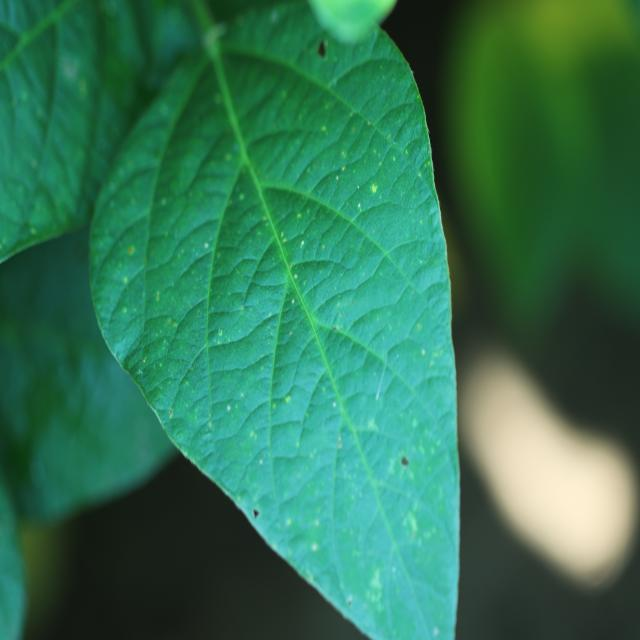Soybean: (0, 0, 465, 640)
downey_mildew: (247, 175, 447, 617), (154, 162, 314, 468), (251, 65, 419, 236), (333, 418, 450, 639), (278, 192, 427, 362), (88, 92, 179, 352), (202, 200, 293, 352), (211, 46, 334, 144), (338, 131, 435, 243), (19, 6, 66, 217), (218, 4, 339, 84), (152, 81, 230, 205), (144, 204, 227, 318), (265, 281, 333, 411), (196, 301, 291, 390), (204, 163, 234, 444), (250, 188, 331, 285), (1, 1, 90, 83), (336, 298, 428, 376), (324, 59, 417, 135), (96, 156, 162, 258), (291, 370, 342, 497), (277, 228, 343, 324), (123, 312, 190, 406), (326, 377, 351, 620), (101, 255, 157, 362), (277, 259, 354, 334), (353, 100, 427, 177), (237, 126, 320, 189), (199, 395, 264, 473), (348, 200, 426, 257), (305, 151, 368, 211), (290, 25, 349, 86), (169, 299, 223, 360), (378, 531, 408, 640), (342, 464, 385, 540), (363, 472, 429, 512), (267, 417, 312, 473), (24, 190, 61, 237), (204, 322, 214, 456), (240, 276, 256, 310)
